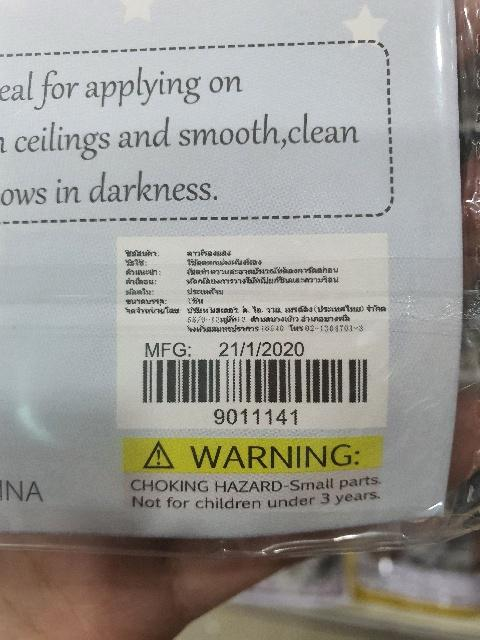Barcode: (126, 352, 378, 425)
